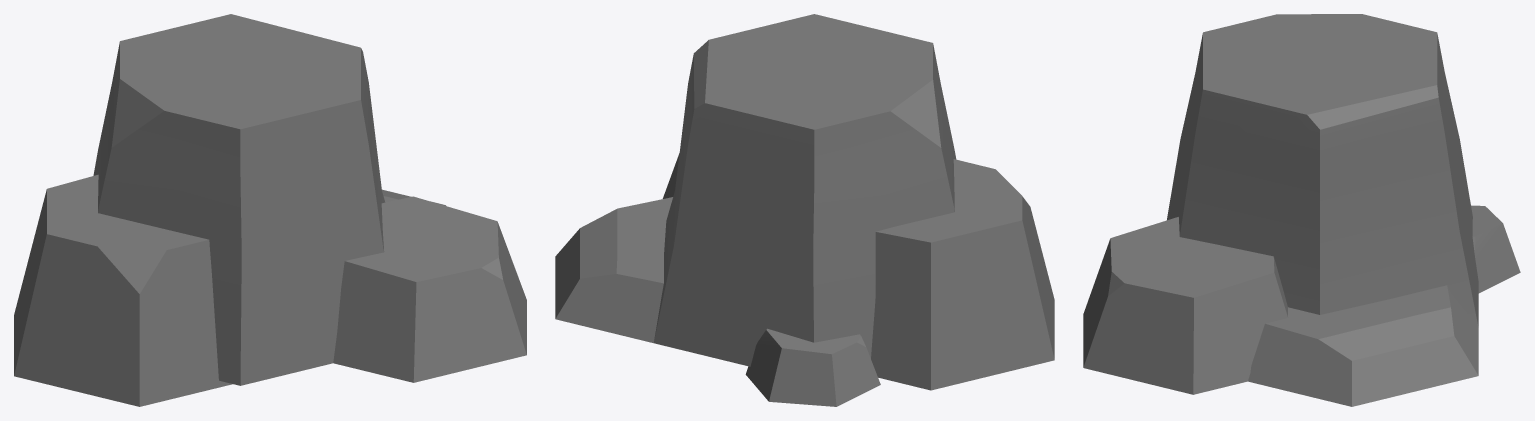
The model's file is rock_formation4.fbx.
3 renders of one model, left to right at view 1: azimuth 30°, elevation 25°; view 2: azimuth 150°, elevation 25°; view 3: azimuth 270°, elevation 25°, orthographic. The views are drawn at different scales.
Visible parts, largest first — view 1: rock; view 2: rock; view 3: rock.
Boxes of the visible parts, x1=… form: rock: x1=14, y1=14, x2=526, y2=406; rock: x1=555, y1=14, x2=1054, y2=406; rock: x1=1083, y1=14, x2=1520, y2=406.
Size of the model in its own units: 980 by 477 by 792.
Materials: 1 (1 with a texture image).
